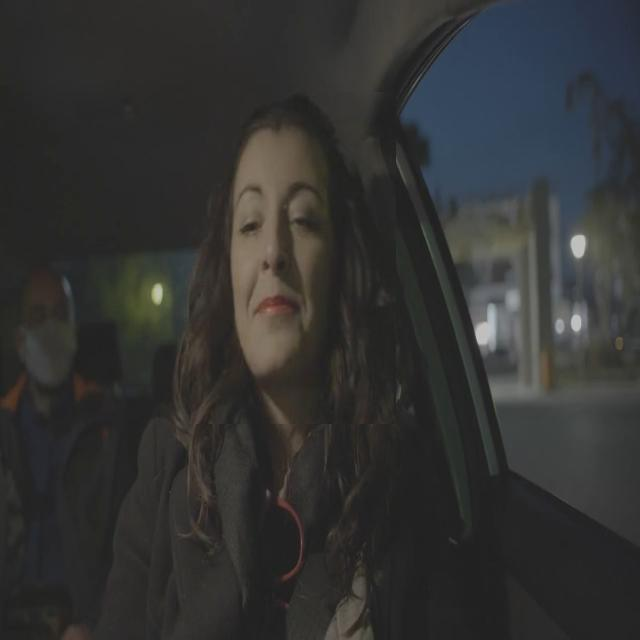Microsleep: (189, 92, 396, 424)
